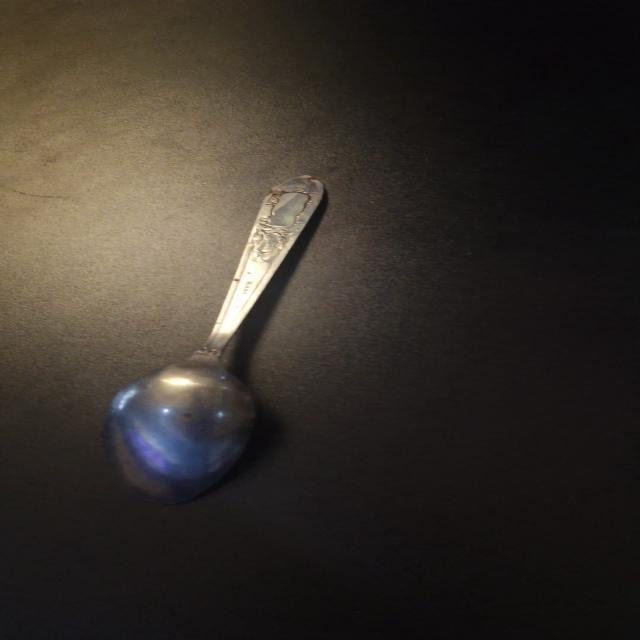plastic utensil: (104, 176, 324, 504)
